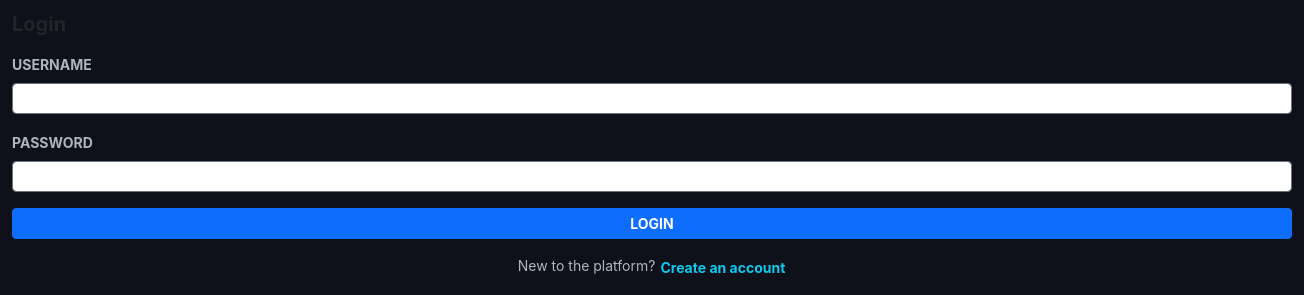
it: Auth Component › should switch to registration form
The width and height of the screenshot is (1304, 295).
Step 1. Click the button "Create an account" → coordinates (723, 267), box [659,256,786,279]
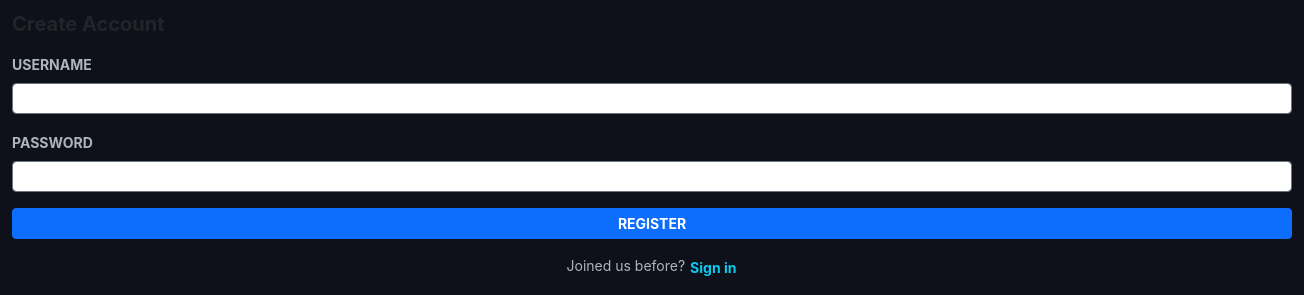
Expected: the button "REGISTER" is shown, [12,208,1292,239]
